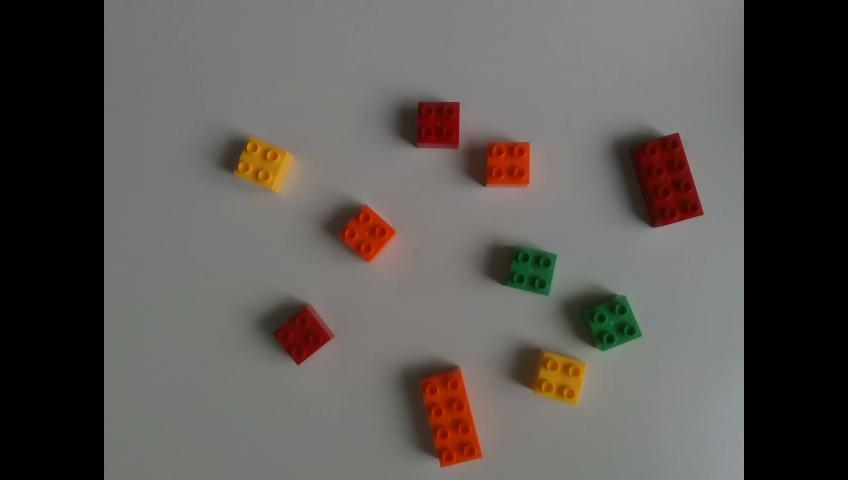2x2_green: (584, 296, 641, 348), (508, 245, 559, 296)
2x2_orange: (339, 204, 395, 260), (486, 140, 530, 185)
2x2_red: (273, 305, 335, 363), (417, 102, 459, 147)
2x2_yellow: (236, 137, 294, 189), (532, 350, 587, 402)
4x2_orange: (422, 369, 481, 465)
4x2_red: (631, 132, 703, 225)
